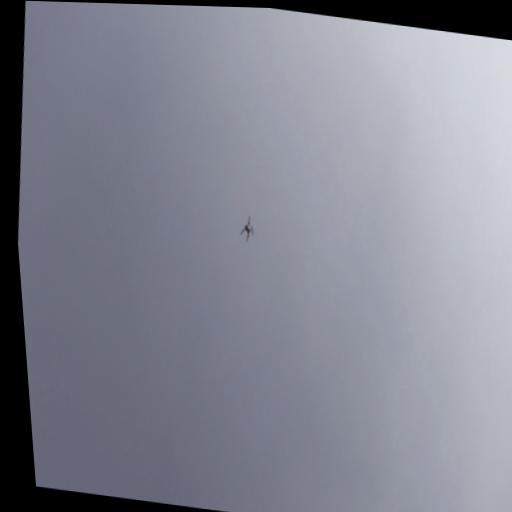drones: (237, 214, 257, 246)
